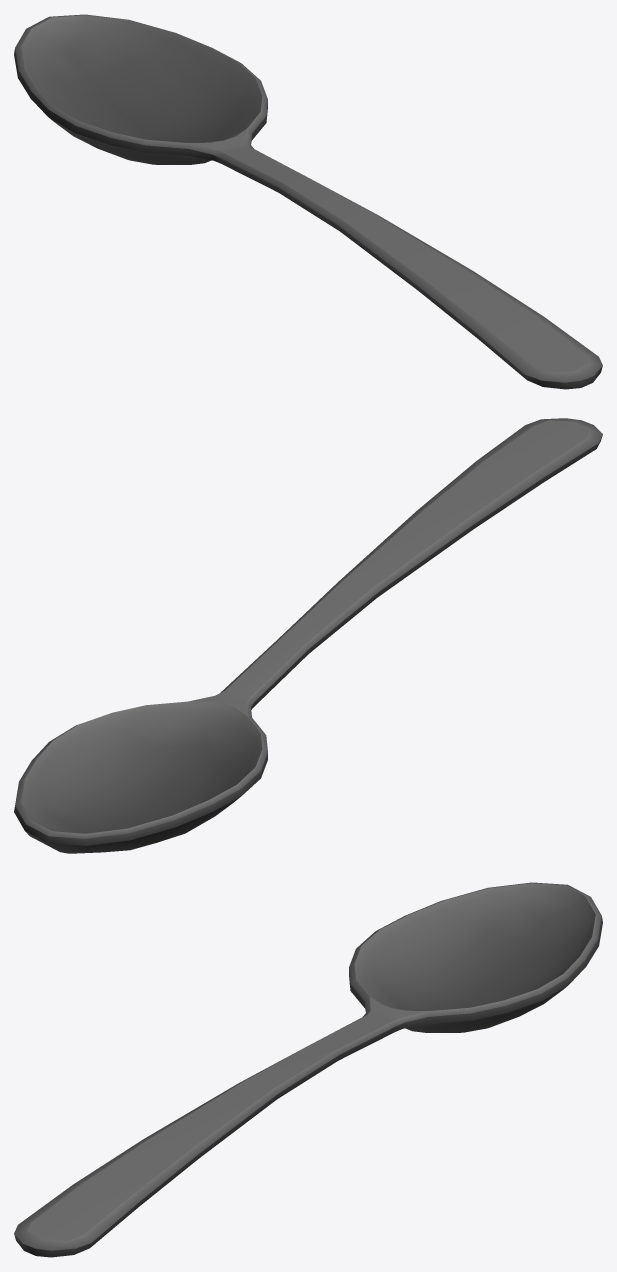
The model's file is spoon.fbx.
3 renders of one model, top to bottom at view 1: azimuth 30°, elevation 25°; view 2: azimuth 150°, elevation 25°; view 3: azimuth 330°, elevation 25°, orthographic.
Visible parts, largest first — view 1: spoon; view 2: spoon; view 3: spoon.
Part boxes in pixels (x1,y1,x2,y2): spoon: (14, 14, 602, 389); spoon: (14, 418, 602, 853); spoon: (14, 882, 602, 1257).
Bounding box in the file's own units: 0.05 × 0.0228 × 0.2388.
